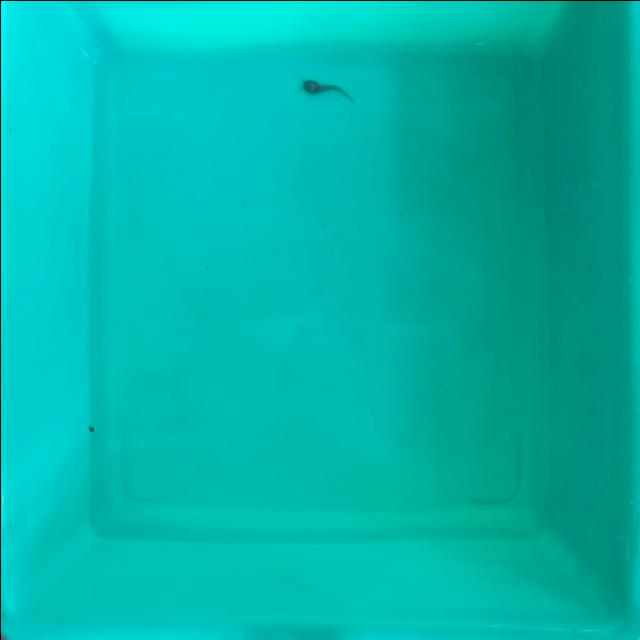lele: (298, 74, 354, 104)
